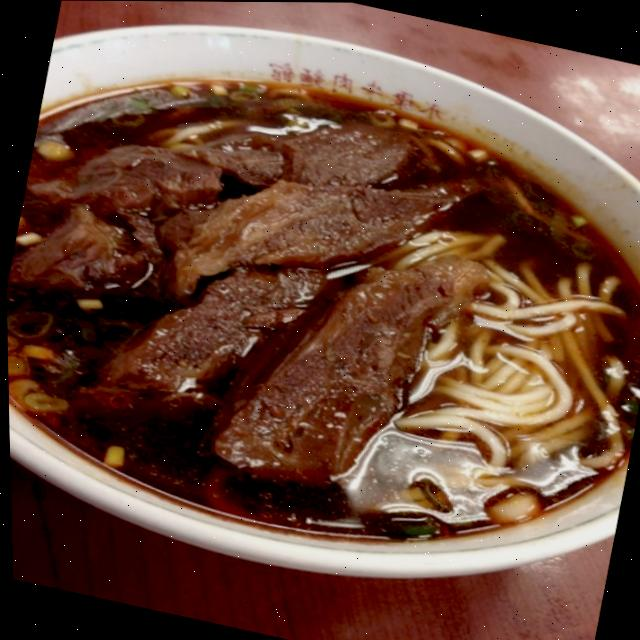面条主食: (0, 0, 640, 602)
